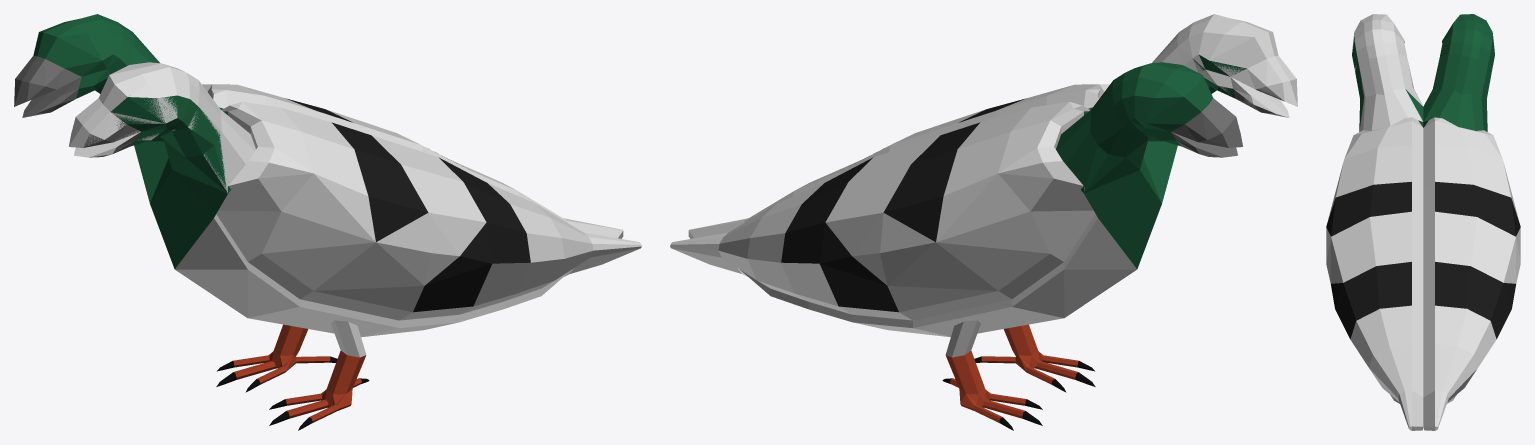
The model's file is pigeon double head.obj.
The picture shows the model from 3 angles, left to right: view 1: azimuth 30°, elevation 25°; view 2: azimuth 150°, elevation 25°; view 3: azimuth 270°, elevation 25°; orthographic projection. The views are drawn at different scales.
Parts seen in each view (by area): view 1: Cube.013_Cube.014, Cube.002_Cube.001; view 2: Cube.013_Cube.014, Cube.002_Cube.001; view 3: Cube.013_Cube.014, Cube.002_Cube.001.
Part boxes in pixels (left/top/right/bottom): Cube.013_Cube.014: left=14, top=14, right=641, bottom=430; Cube.002_Cube.001: left=69, top=62, right=255, bottom=192; Cube.013_Cube.014: left=670, top=55, right=1287, bottom=430; Cube.002_Cube.001: left=1152, top=14, right=1297, bottom=117; Cube.013_Cube.014: left=1326, top=14, right=1520, bottom=430; Cube.002_Cube.001: left=1352, top=14, right=1423, bottom=131.
Bounding box in the file's own units: 8.55 × 5.44 × 3.45.
